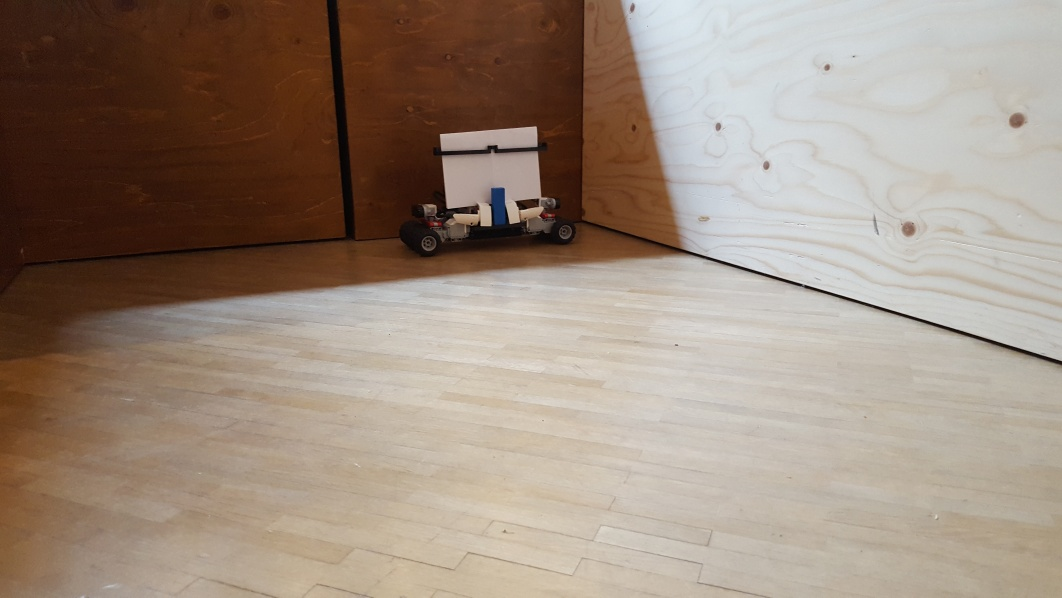car: (400, 126, 575, 256)
